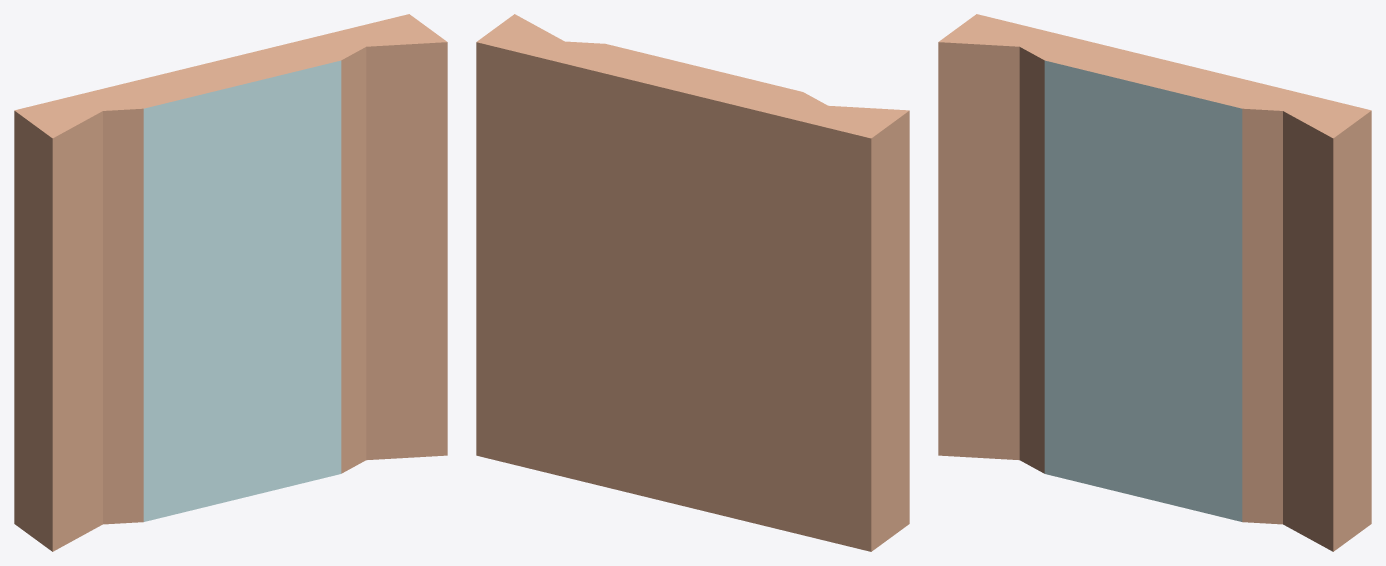
File: cliff_waterfall_rock.gltf
The picture shows the model from 3 angles, left to right: view 1: azimuth 30°, elevation 25°; view 2: azimuth 150°, elevation 25°; view 3: azimuth 330°, elevation 25°; orthographic projection.
Parts seen in each view (by area): view 1: cliff_waterfall_rock; view 2: cliff_waterfall_rock; view 3: cliff_waterfall_rock.
Boxes of the visible parts, bbox=[...] form: cliff_waterfall_rock: bbox=[14, 14, 447, 551]; cliff_waterfall_rock: bbox=[476, 14, 909, 551]; cliff_waterfall_rock: bbox=[938, 14, 1371, 551].
Bounding box in the file's own units: 1 × 1 × 0.1685.
